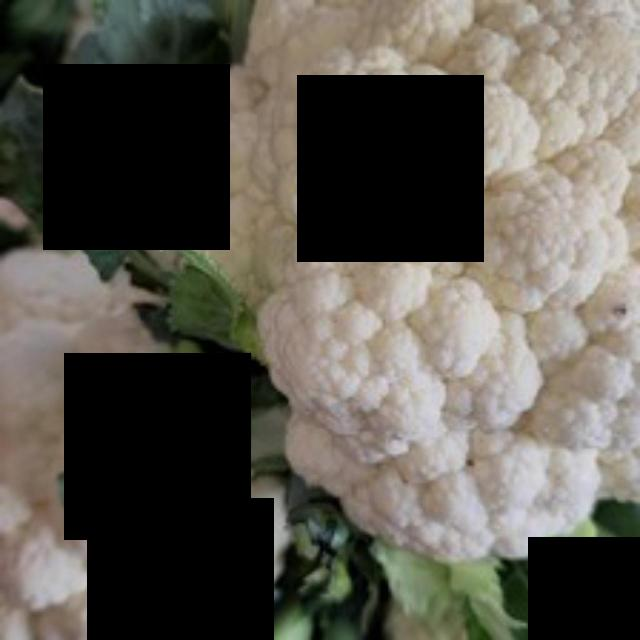cauliflower: (114, 0, 637, 571)
